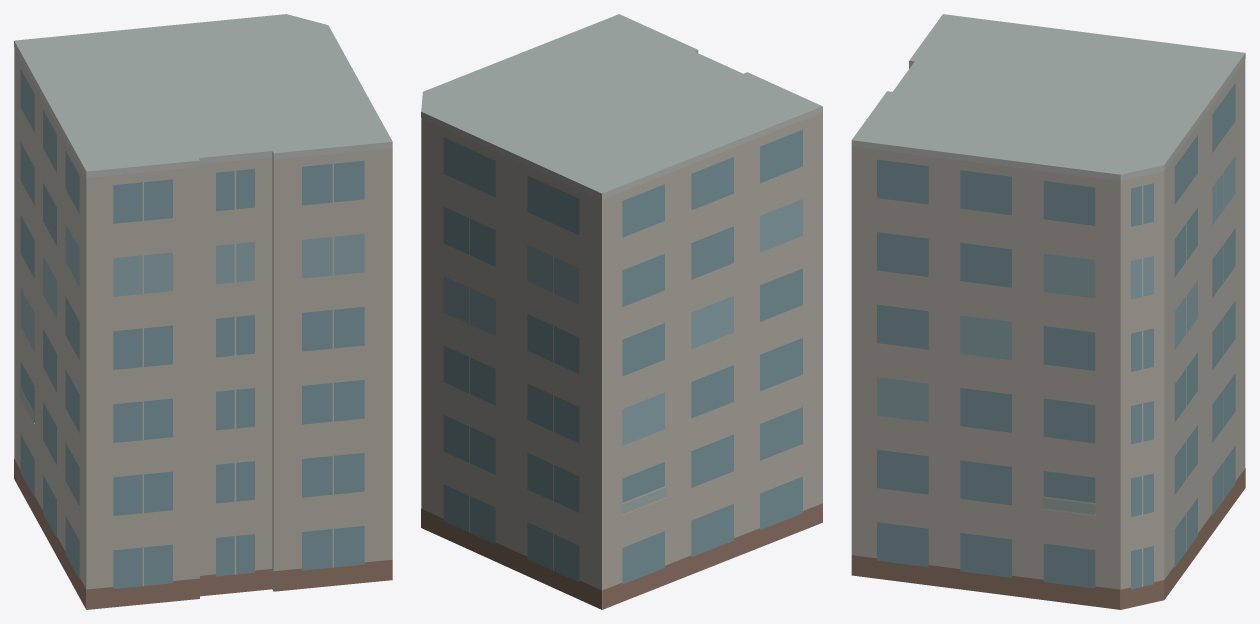
File: survey-upis-32878545.glb
3 renders of one model, left to right at view 1: azimuth 30°, elevation 25°; view 2: azimuth 150°, elevation 25°; view 3: azimuth 270°, elevation 25°, orthographic. The views are drawn at different scales.
Parts seen in each view (by area): view 1: survey-upis-32878545.tmp; view 2: survey-upis-32878545.tmp; view 3: survey-upis-32878545.tmp.
Boxes of the visible parts, bbox=[...] form: survey-upis-32878545.tmp: bbox=[14, 14, 392, 609]; survey-upis-32878545.tmp: bbox=[421, 14, 822, 609]; survey-upis-32878545.tmp: bbox=[851, 14, 1245, 609].
Size of the model in its own units: 13.15 by 16.6 by 13.63.
